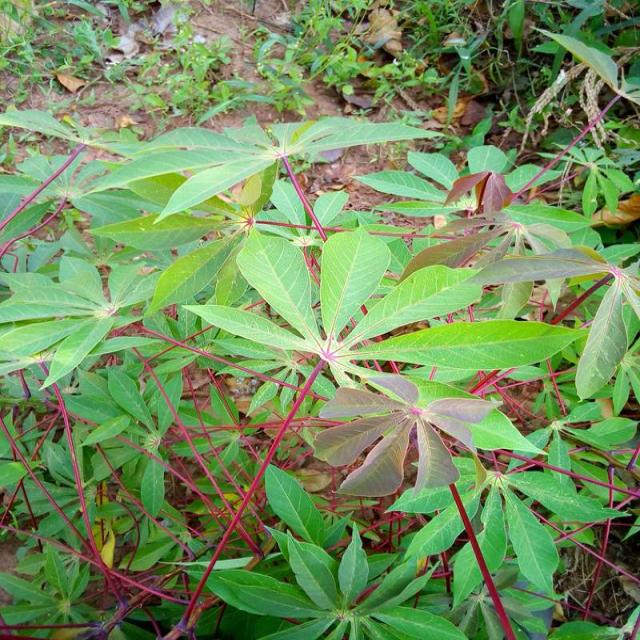cassava leaf: (2, 104, 638, 638), (314, 368, 504, 499), (320, 223, 393, 341)
